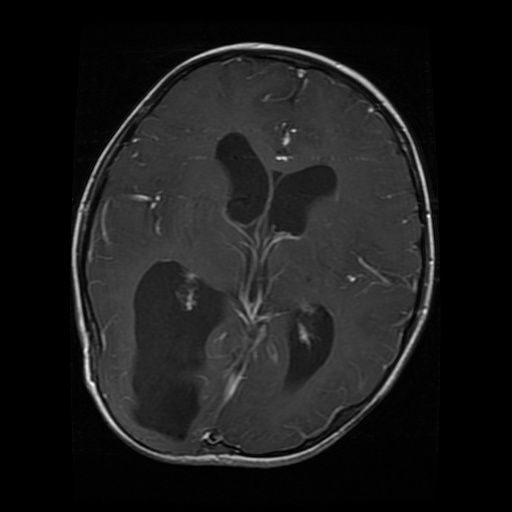glioma: (132, 256, 228, 438)
